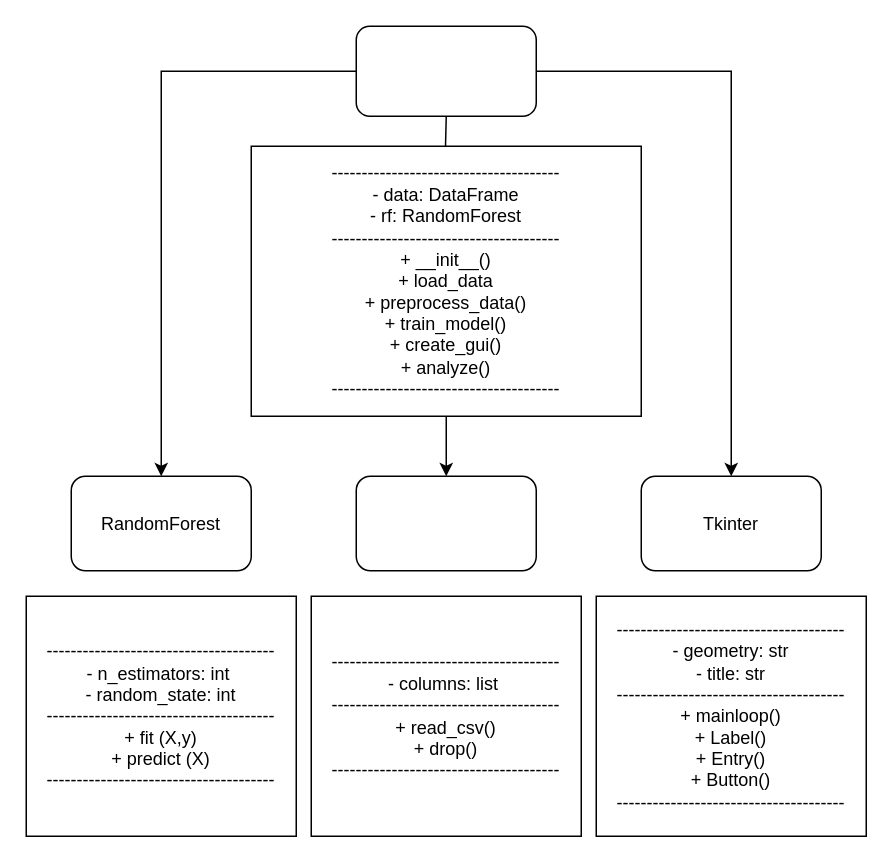
The diagram is 893 pixels wide and 863 high, and some of its shapes have lost their labels. Here are the shapes that lost their labels. From the top down, the centre of each, then its label:
At point 445,70: "BLACKJACK ANALYZER".
At point 445,523: "DataFrame".
